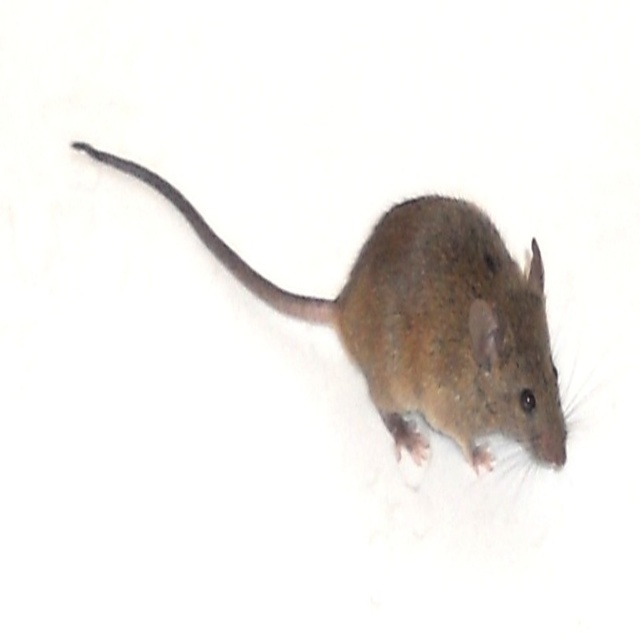Mouse: (69, 141, 577, 475)
